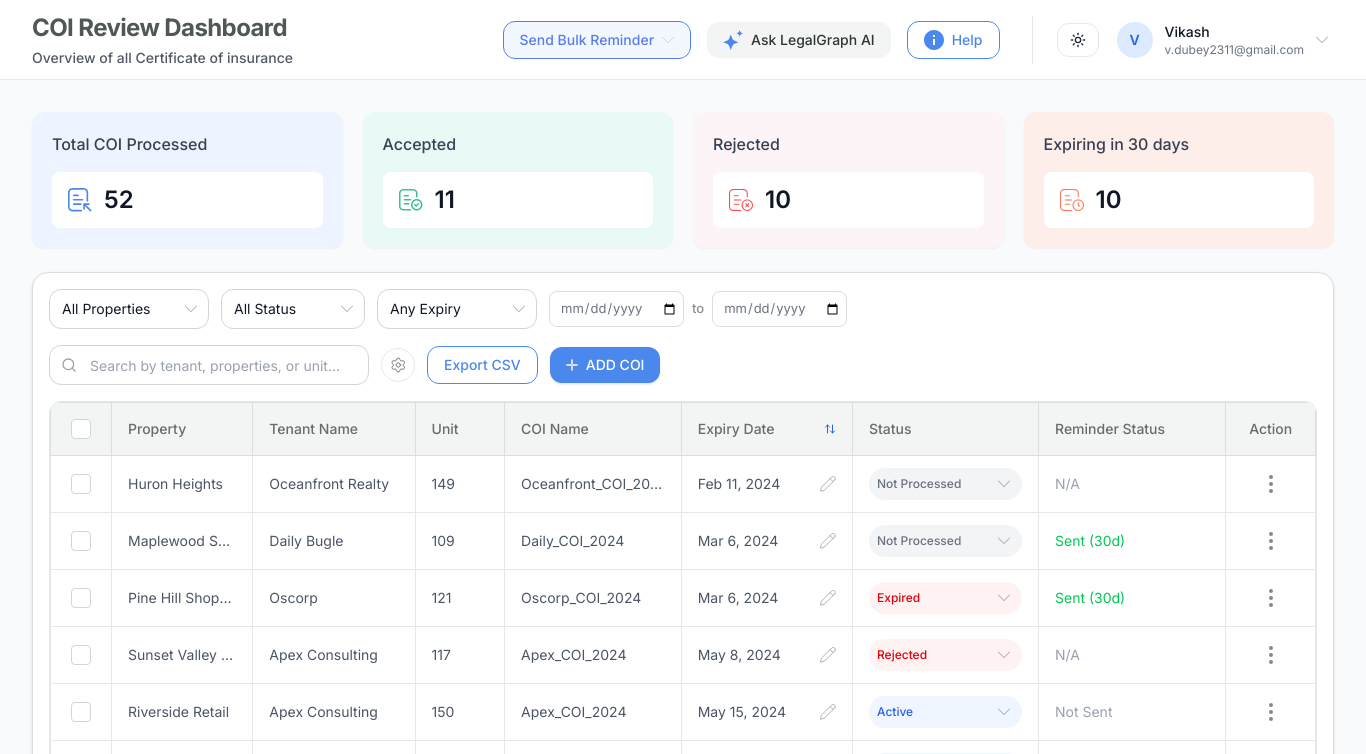
Test: Dashboard Page › opens Delete COI Modal when delete action is clicked
This screenshot has width=1366, height=754.
Click the 4th button with alt text "Options" at (1271, 484), box [1265,470,1277,496]
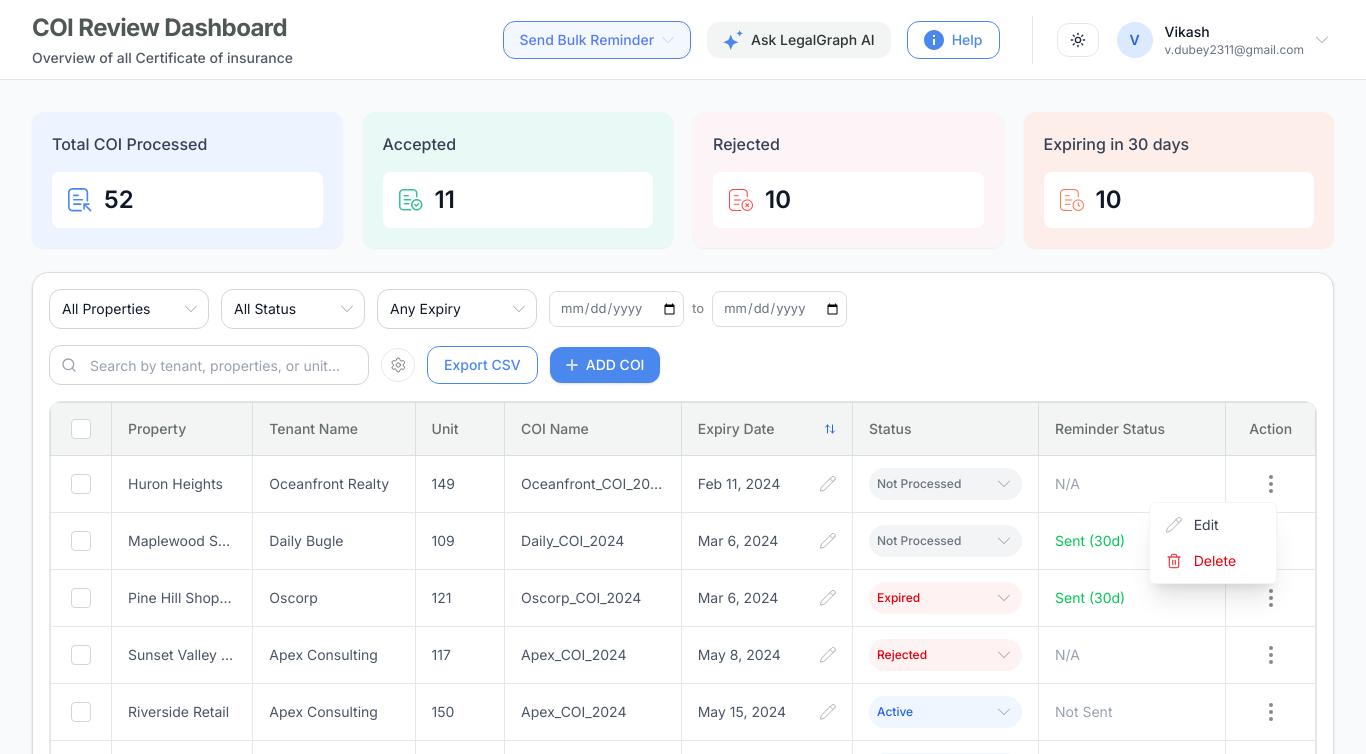
Click the menu item "Delete" at (1213, 560), box [1150,542,1276,578]
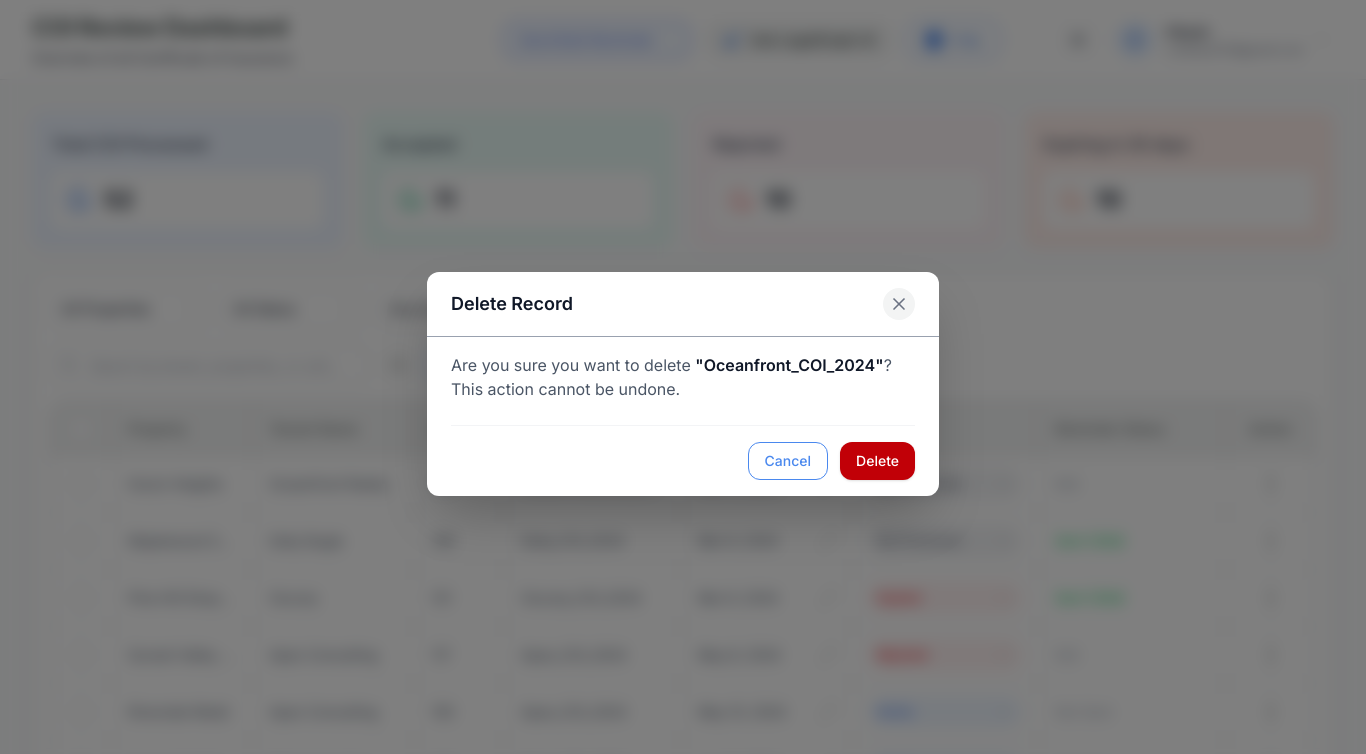
Expected: the heading "Delete Record" is shown, [451,290,573,318]
